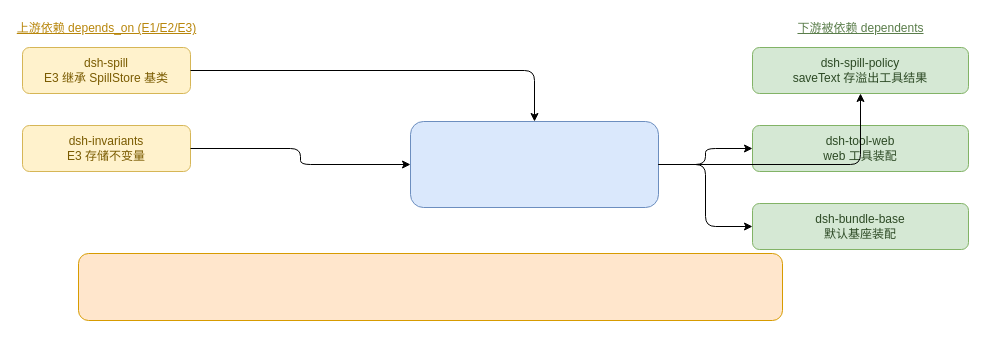
Image size: 986x338. Some labels were removed from this diagram. Each missing label, with the centre of its shape:
"dsh-spill-local @deepseek-ai/dsh-spill-local" belongs at (534,164).
"provides 关键项 • ctx.spillStore 服务 • session-scoped 私有文件存储 • traversal-safe 命名" belongs at (430,286).
